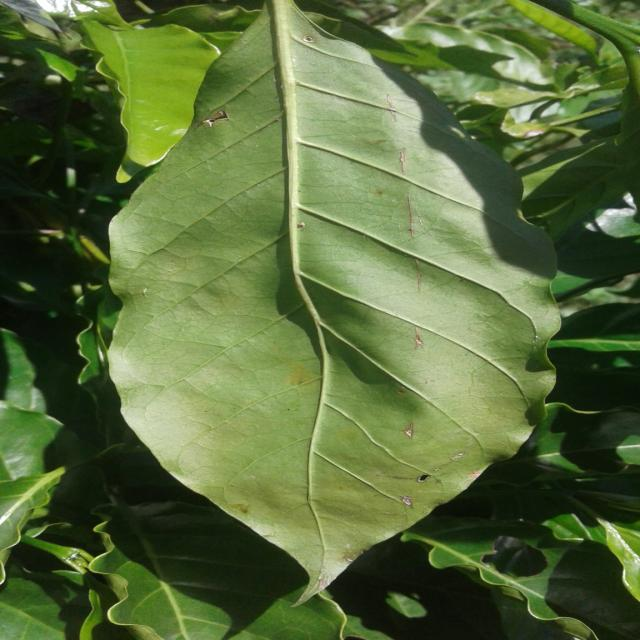Enfermedad-Roya: (108, 0, 562, 604)
